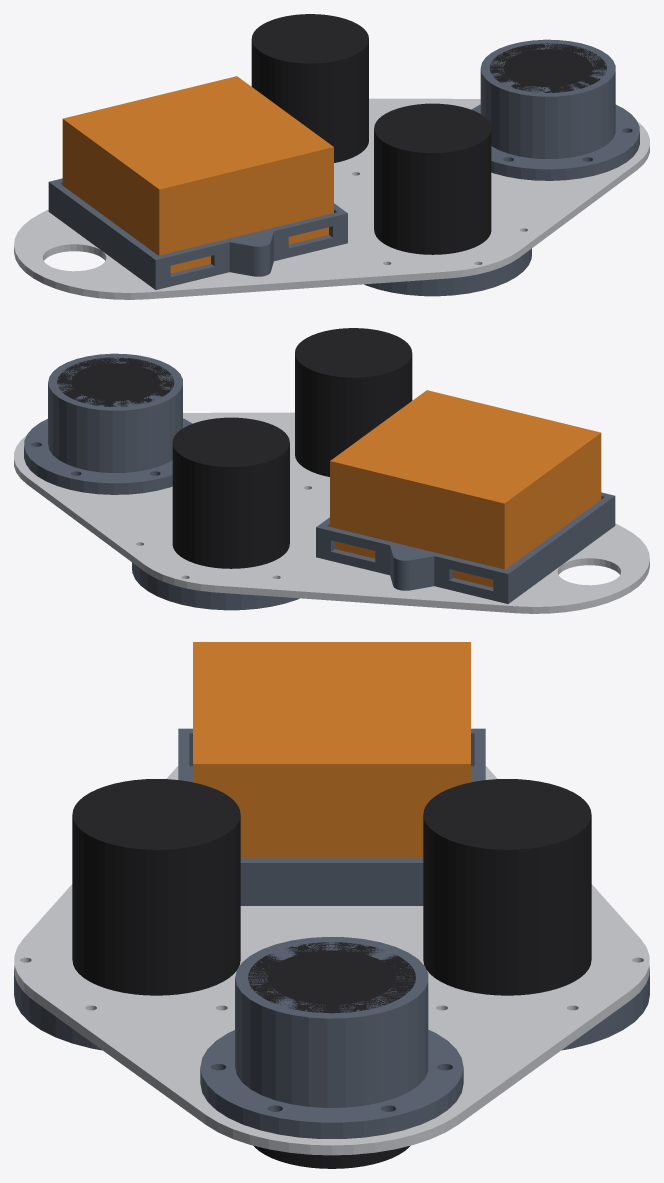
3 renders of one model, top to bottom at view 1: azimuth 30°, elevation 25°; view 2: azimuth 150°, elevation 25°; view 3: azimuth 270°, elevation 25°, orthographic. The views are drawn at different scales.
Parts seen in each view (by area): view 1: base_link-battery, base_link-motor, base_link-printed, base_link-alu; view 2: base_link-battery, base_link-motor, base_link-printed, base_link-alu; view 3: base_link-motor, base_link-battery, base_link-alu, base_link-printed.
Part boxes in pixels (x1,y1,x2,y2): base_link-battery: (62, 76, 333, 273); base_link-motor: (251, 14, 606, 254); base_link-printed: (48, 39, 639, 296); base_link-alu: (14, 98, 649, 299); base_link-battery: (330, 390, 601, 587); base_link-motor: (57, 328, 412, 568); base_link-printed: (24, 353, 615, 610); base_link-alu: (14, 412, 649, 613); base_link-motor: (72, 779, 591, 1168); base_link-battery: (193, 642, 470, 858); base_link-alu: (14, 766, 649, 1155); base_link-printed: (14, 728, 649, 1138).
Size of the model in its own units: 0.2749 by 0.174 by 0.059.
